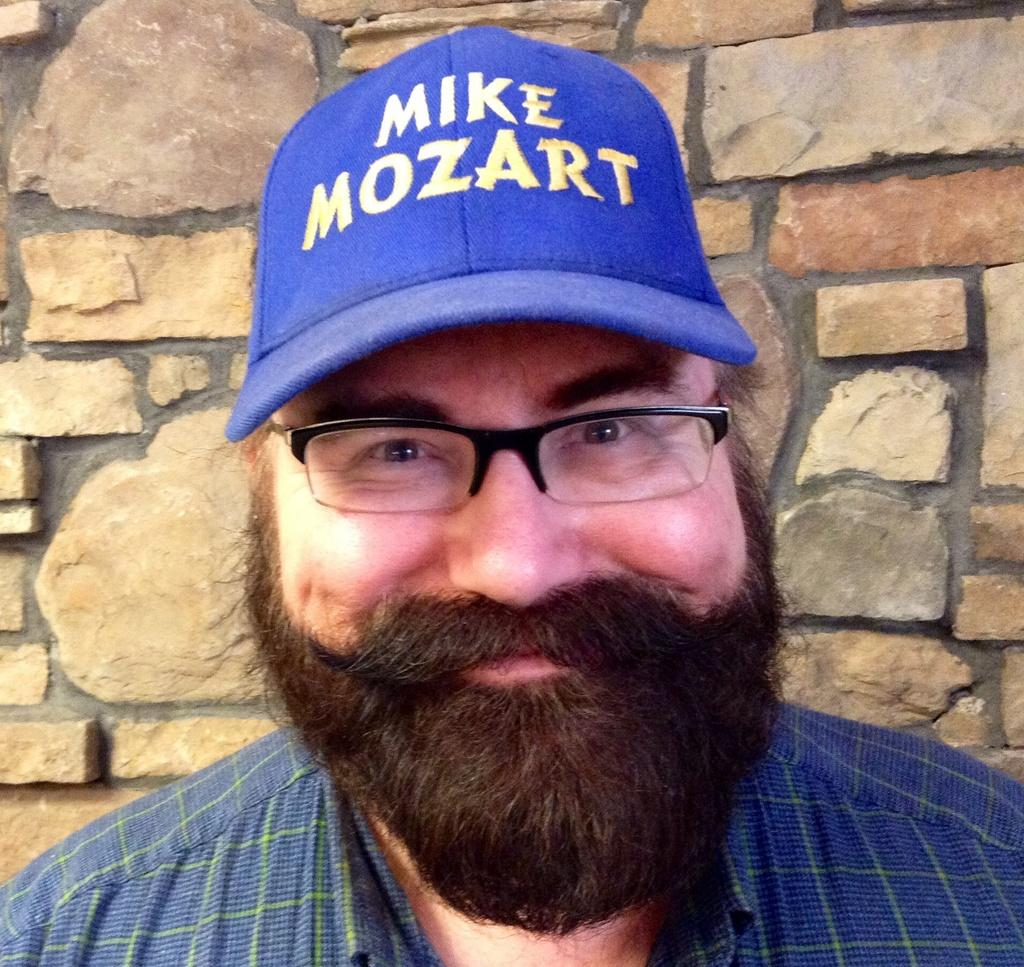Hat: (221, 17, 759, 446)
